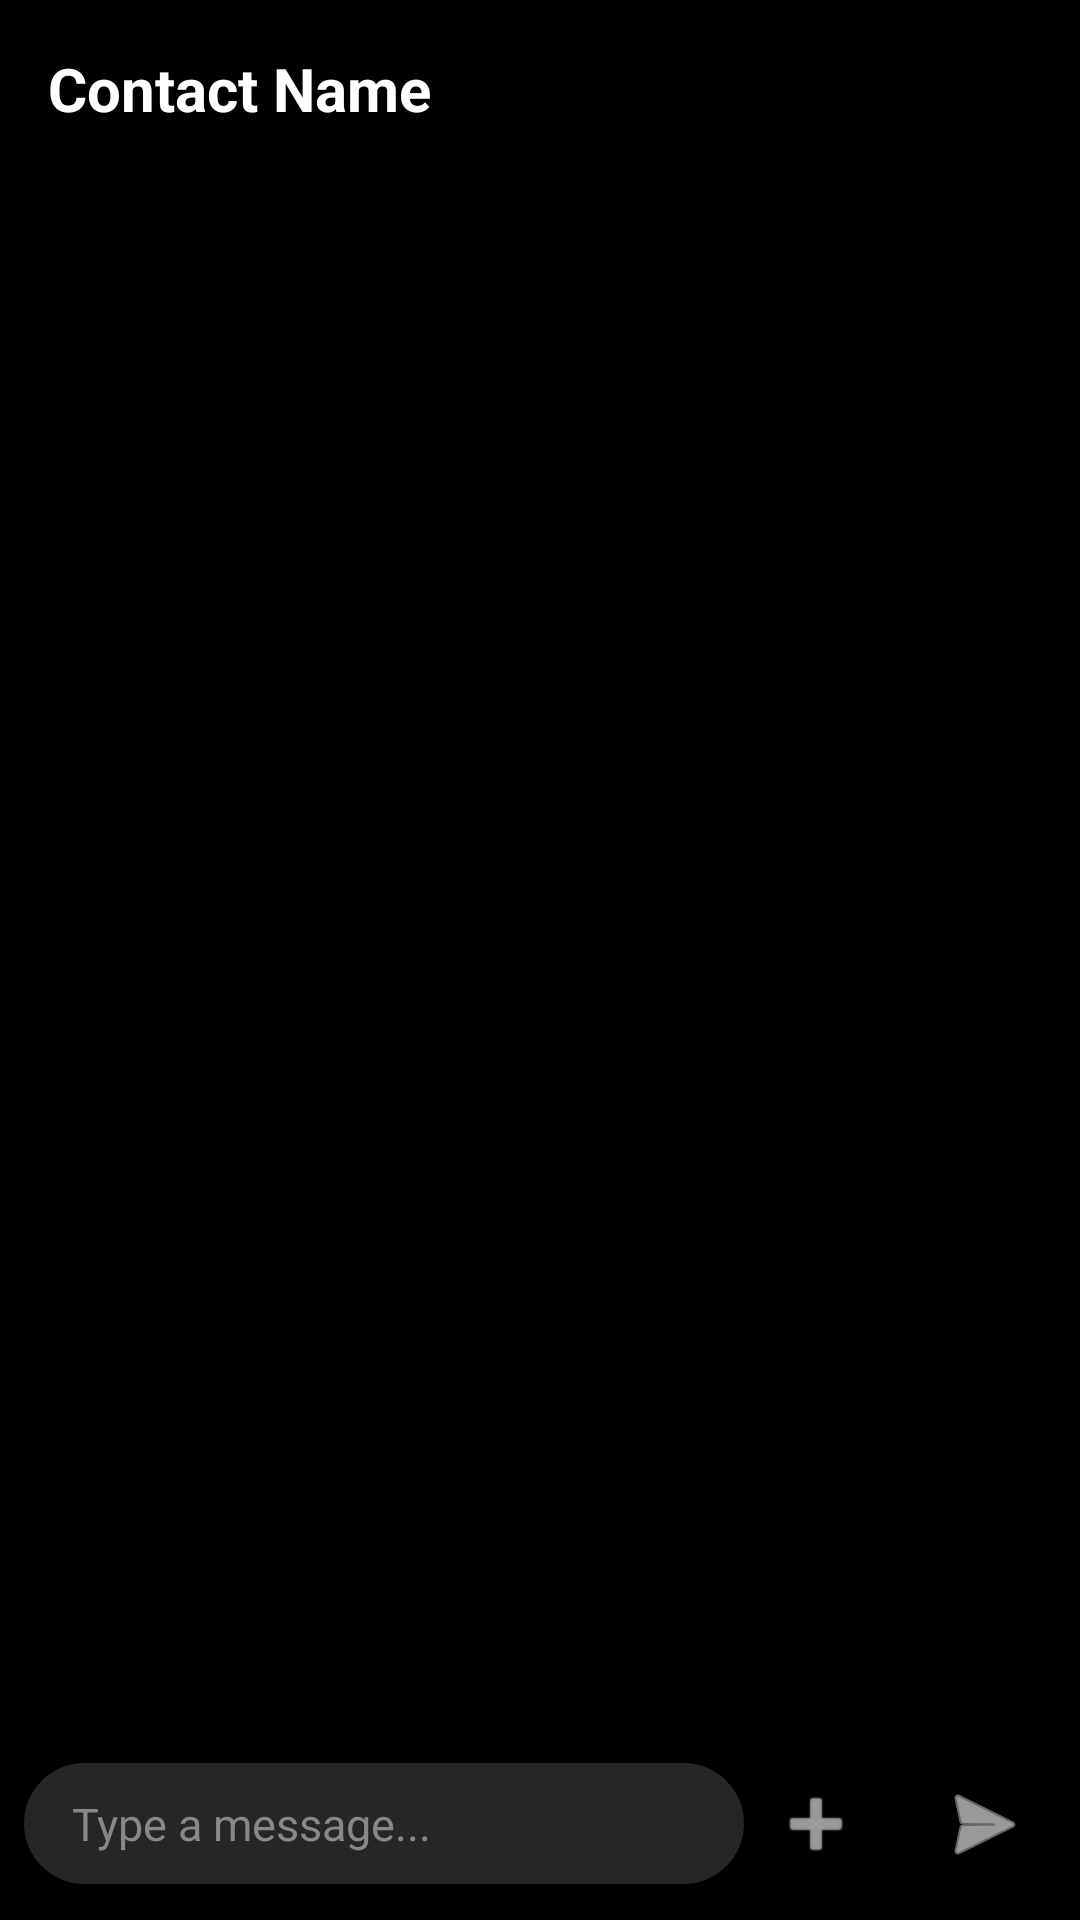

Icons on this 1080 x 1920 Android screen, each with the point to tap as (x=x, y=y):
Attach Media: (x=816, y=1824)
Send: (x=985, y=1824)
